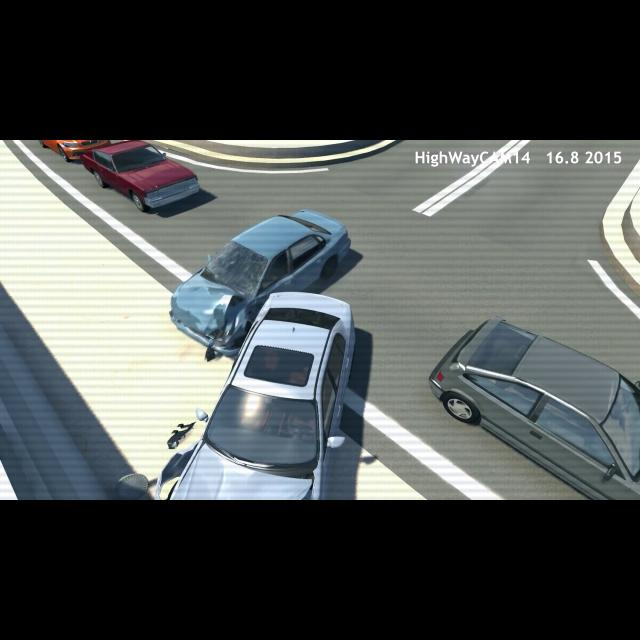accident: (164, 210, 363, 498)
